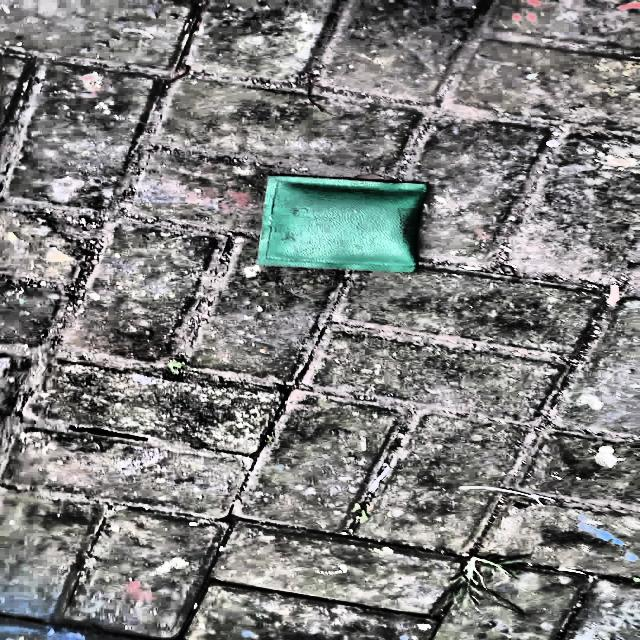payload: (257, 176, 431, 270)
